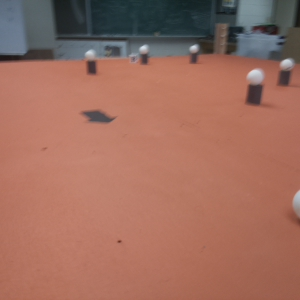obstacle: (245, 69, 268, 106), (278, 58, 293, 85), (84, 49, 98, 74), (140, 44, 150, 68), (188, 45, 200, 64)
